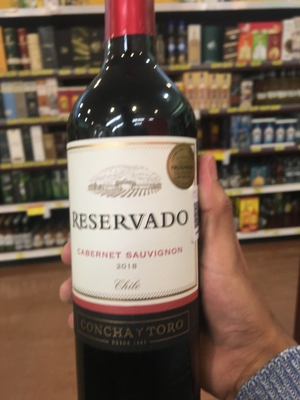reservado cabernet sauvignon: (66, 25, 217, 400)
